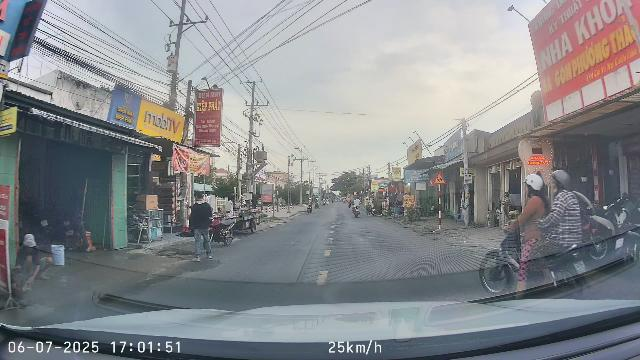225-chu-y-tre-em: (433, 172, 446, 184)
